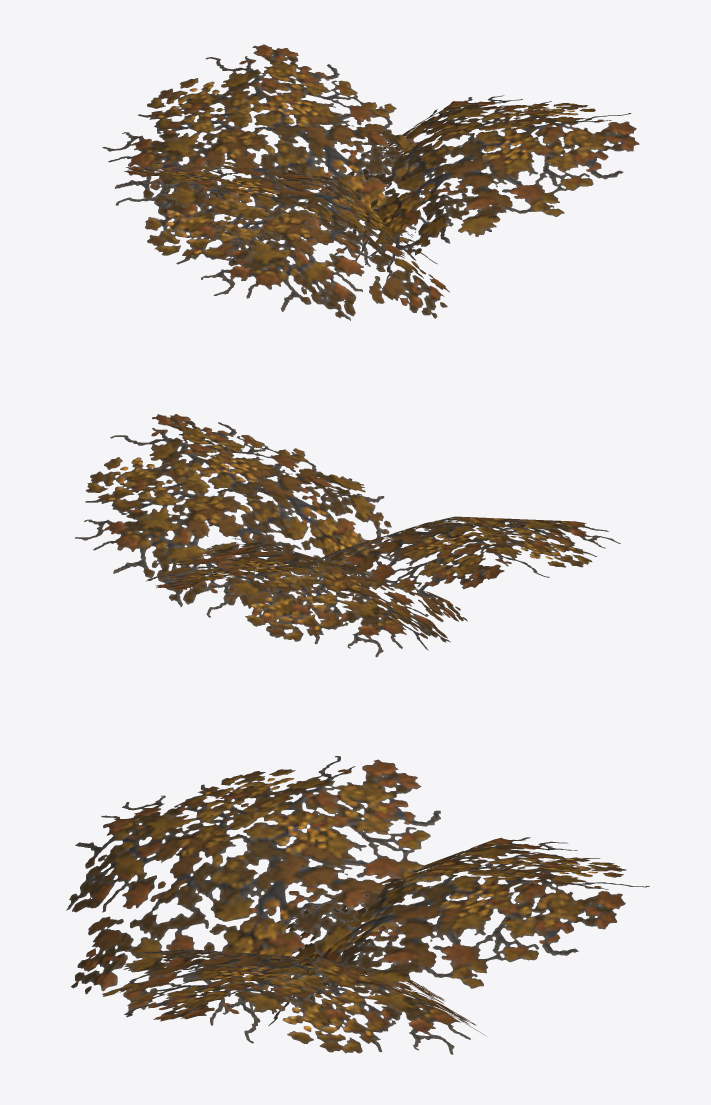
Rendered from Scene_Bush_01.FBX.
The picture shows the model from 3 angles, top to bottom: view 1: azimuth 30°, elevation 25°; view 2: azimuth 150°, elevation 25°; view 3: azimuth 270°, elevation 25°; orthographic projection. The views are drawn at different scales.
Visible parts, largest first — view 1: Scene_Bush_01; view 2: Scene_Bush_01; view 3: Scene_Bush_01.
Part boxes in pixels (x1,y1,x2,y2): Scene_Bush_01: [102, 44, 639, 320]; Scene_Bush_01: [75, 414, 620, 657]; Scene_Bush_01: [66, 756, 649, 1054].
Bounding box in the file's own units: 4.51 × 1.15 × 4.13.
